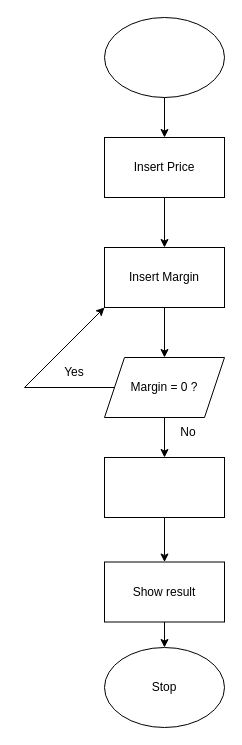
This 242x745 diagram has some shape labels left out. The shapes that lost their labels are listed below. From the top down, each one's box as (x1, y1, x2, y2) in pixels, then its label:
(104, 16, 224, 98): Start
(104, 456, 224, 518): Calculate price
